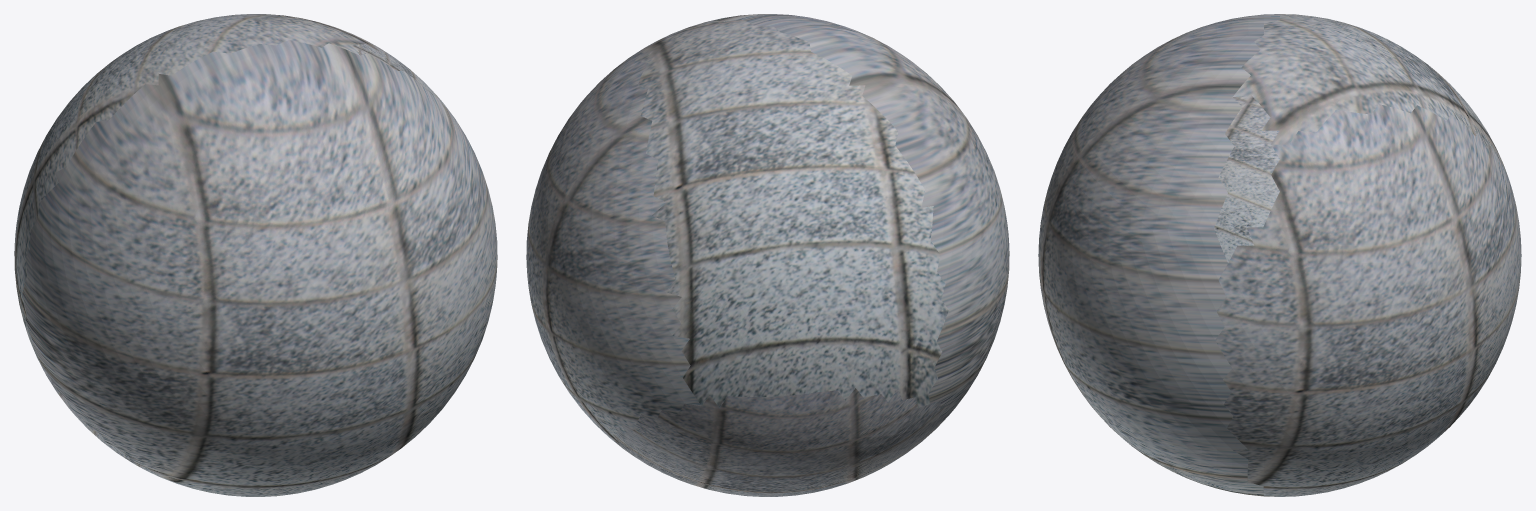
Rendered from ball.gltf.
The picture shows the model from 3 angles, left to right: view 1: azimuth 30°, elevation 25°; view 2: azimuth 150°, elevation 25°; view 3: azimuth 270°, elevation 25°; orthographic projection.
Bounding box in the file's own units: 0.04 × 0.04 × 0.04.
1 material, 1 textured.
